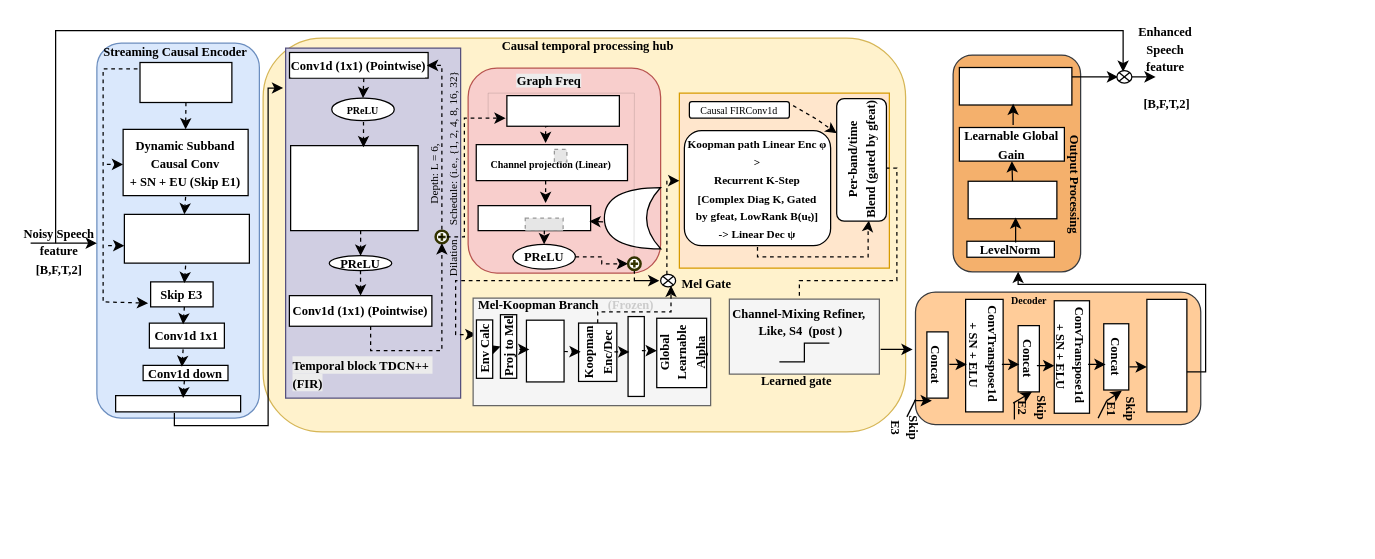
Image size: 1375x559. Some labels were removed from this diagram. Grey dashed boxes stand in for pictures. The shapes that lost their labels are listed below. From the top down, each one's box as (x1, y1, x2, y2) in pixels, then its label:
(139, 61, 232, 102): Causal Conv1D + SN + EU
(958, 66, 1072, 105): Complex Ratio Mask Application
(506, 94, 619, 126): Reshape B*T,L,C
(289, 144, 418, 231): Causal Conv1d (Kernel=3, Groups=C) *DILATION = 2^i*
(967, 180, 1057, 219): Soft Mask Clamp
(477, 204, 591, 231): Graph Filter
(603, 186, 661, 249): adjacency A (learnable)
(123, 213, 249, 263): Dynamic Subband Causal Conv + SN + EU (Skip E2)
(525, 319, 564, 382): Causal LP Smoother
(627, 315, 644, 397): Proj back to L
(1146, 298, 1187, 412): ConvTranspose1d Output
(114, 394, 241, 412): Reshape to [B,C,T,L]
